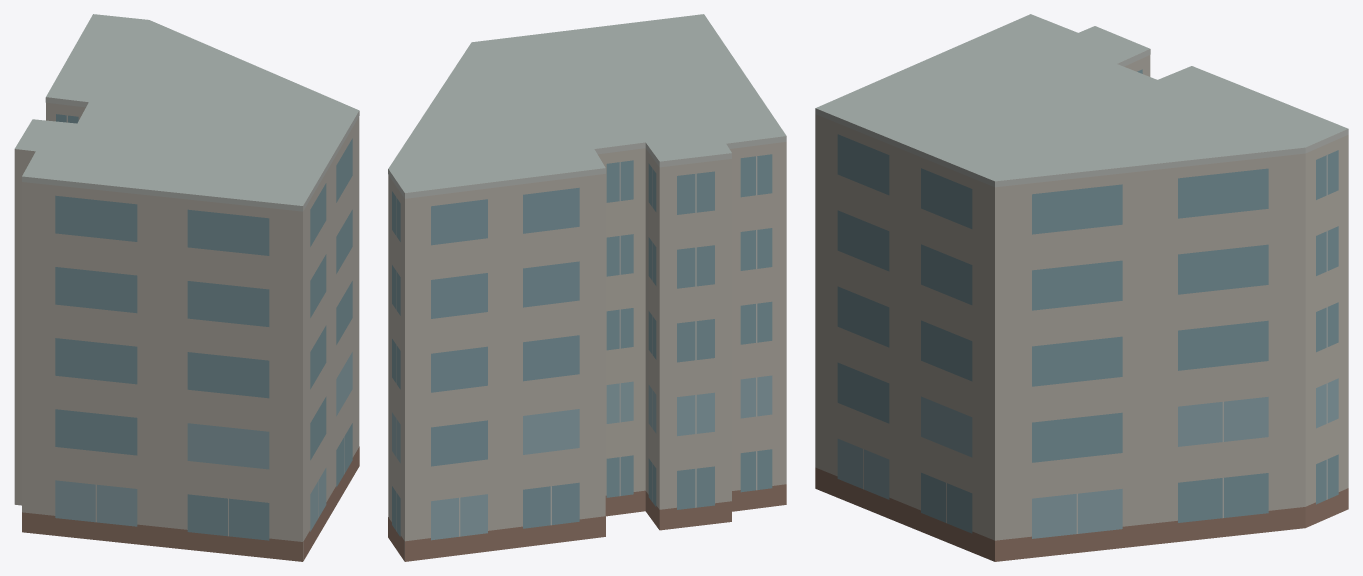
Rendered from survey-upis-32674480.glb.
The picture shows the model from 3 angles, left to right: view 1: azimuth 30°, elevation 25°; view 2: azimuth 150°, elevation 25°; view 3: azimuth 270°, elevation 25°; orthographic projection. The views are drawn at different scales.
Parts seen in each view (by area): view 1: survey-upis-32674480.tmp; view 2: survey-upis-32674480.tmp; view 3: survey-upis-32674480.tmp.
Part boxes in pixels (x1,y1,x2,y2): survey-upis-32674480.tmp: (14,14,359,561); survey-upis-32674480.tmp: (388,14,786,561); survey-upis-32674480.tmp: (815,14,1348,561).
Size of the model in its own units: 14.82 by 15.7 by 19.95.
